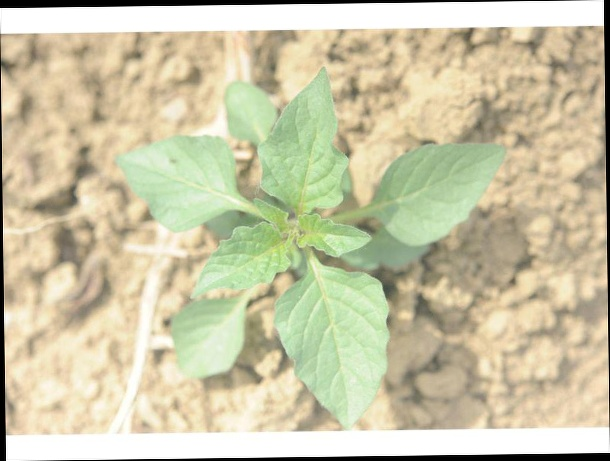nightshade: (116, 65, 510, 432)
